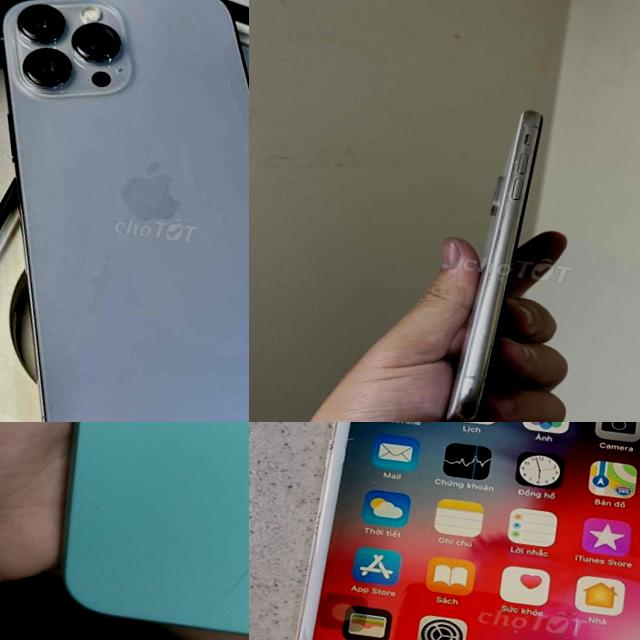gen_11: (25, 422, 249, 640)
gen_12_13: (0, 0, 249, 422)
gen_6: (297, 422, 640, 640)
gen_x_xs: (445, 111, 542, 422)
